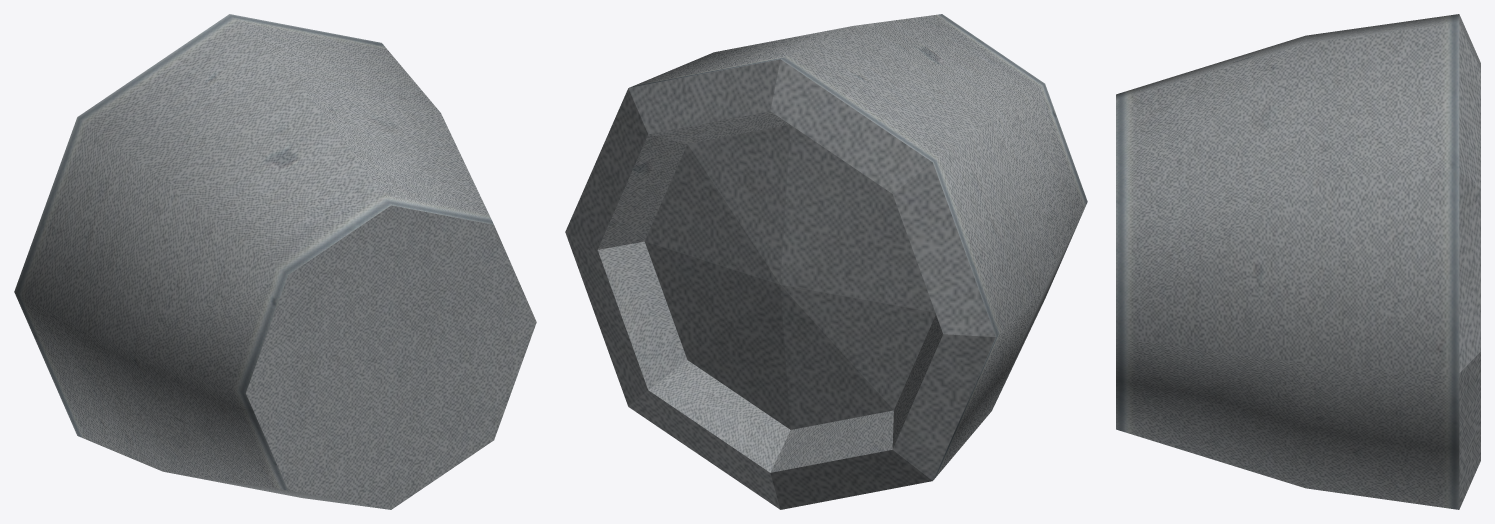
Rendered from FlowerPot02.FBX.
The picture shows the model from 3 angles, left to right: view 1: azimuth 30°, elevation 25°; view 2: azimuth 150°, elevation 25°; view 3: azimuth 270°, elevation 25°; orthographic projection. The views are drawn at different scales.
Visible parts, largest first — view 1: FlowerPot02; view 2: FlowerPot02; view 3: FlowerPot02.
Boxes of the visible parts, <box> form: FlowerPot02: <box>14,14,536,509</box>; FlowerPot02: <box>565,14,1087,509</box>; FlowerPot02: <box>1116,14,1480,509</box>.
Bounding box in the file's own units: 11.49 × 7.94 × 11.49.
